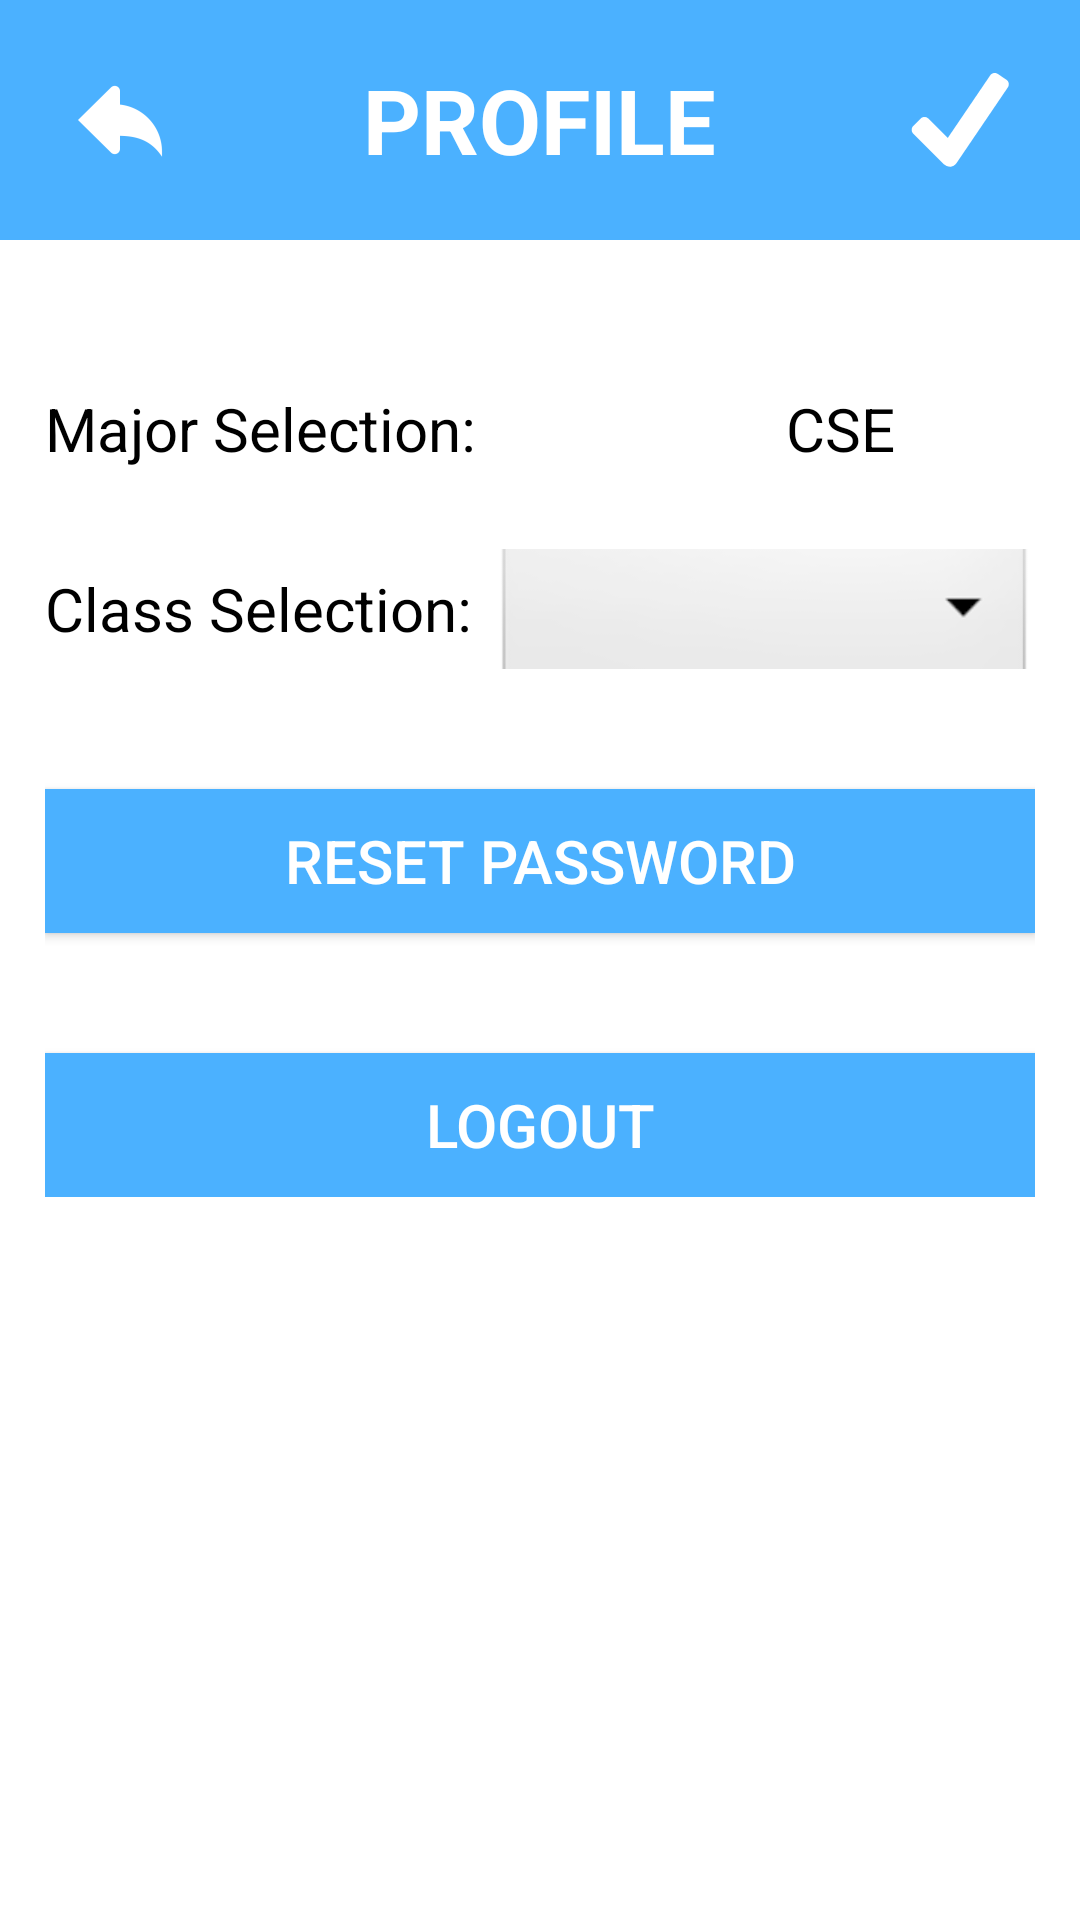

Named icons in this screenshot (1080×1920) and their bounding boxes, box=[x1, y1, x2, y2]:
back: box=[78, 86, 162, 157]
save: box=[911, 73, 1009, 167]
